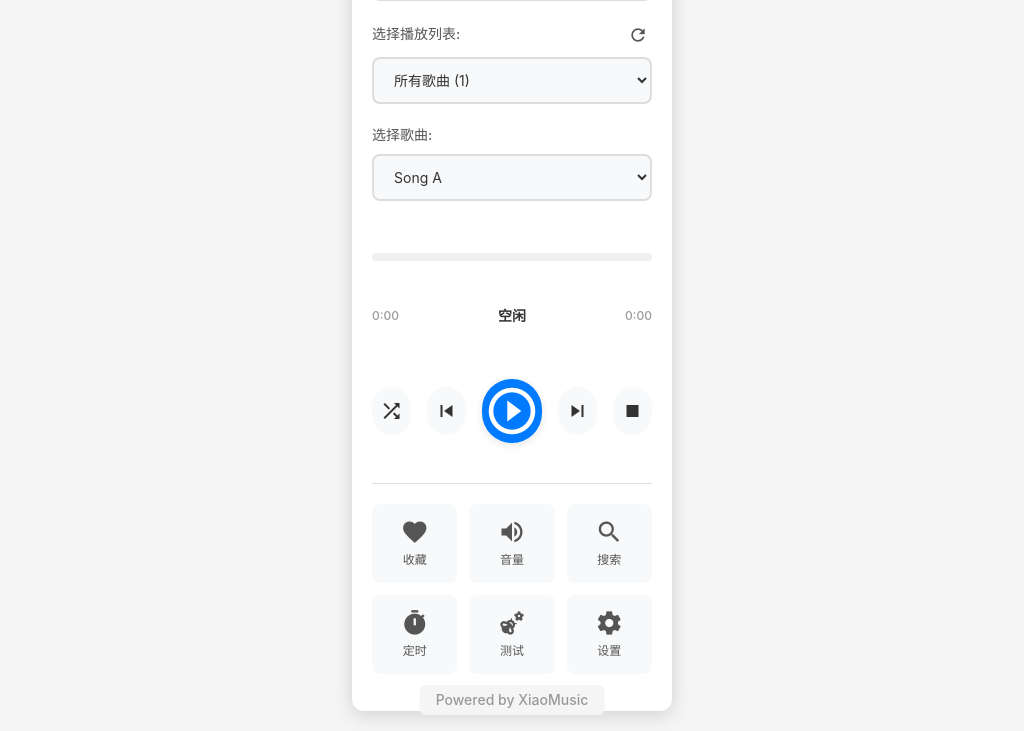
HomePage play button regression › shows timer copy aligned with v1 formal controls
(page scrolled)
Click the button "定时" at (415, 635), box [372, 595, 457, 674]
Wait 1000 ms
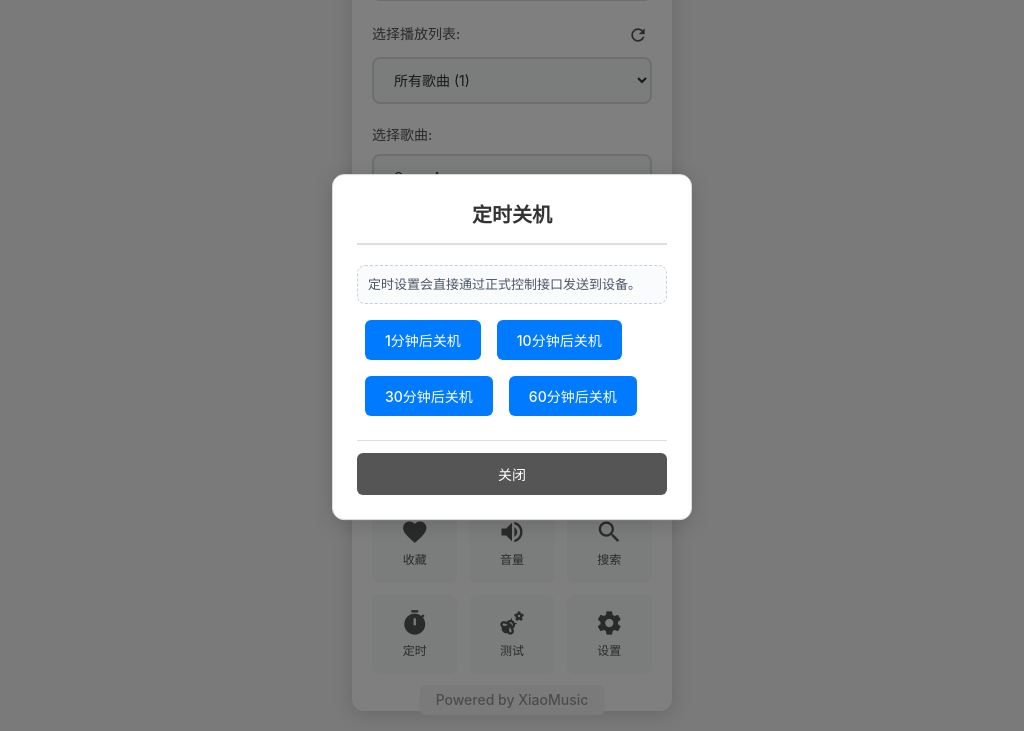
Check: the text "定时设置会直接通过正式控制接口发送到设备。" is shown, box [357, 265, 667, 304]
